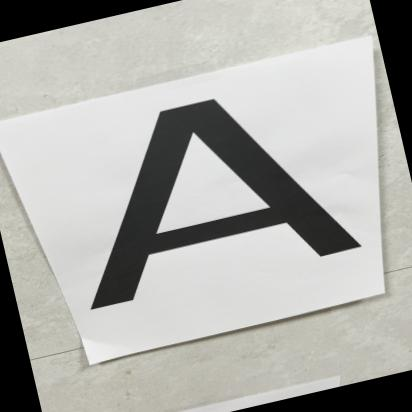seat: (24, 63, 366, 318)
